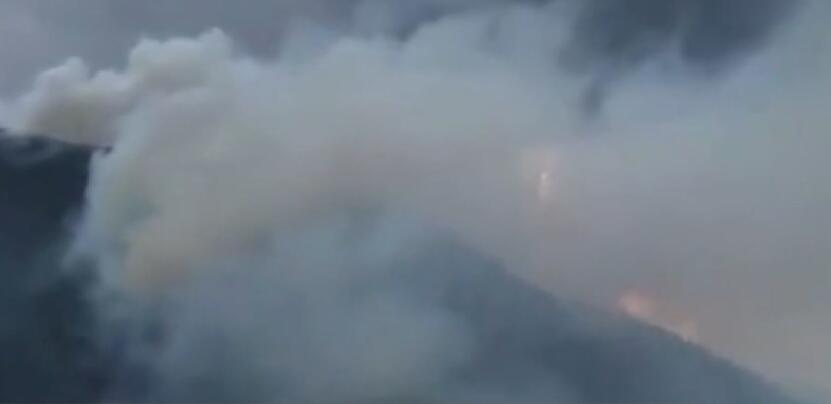yanwu: (23, 0, 829, 399)
